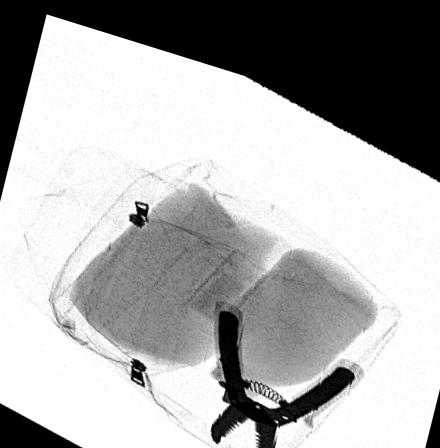Pliers: (208, 293, 358, 448)
